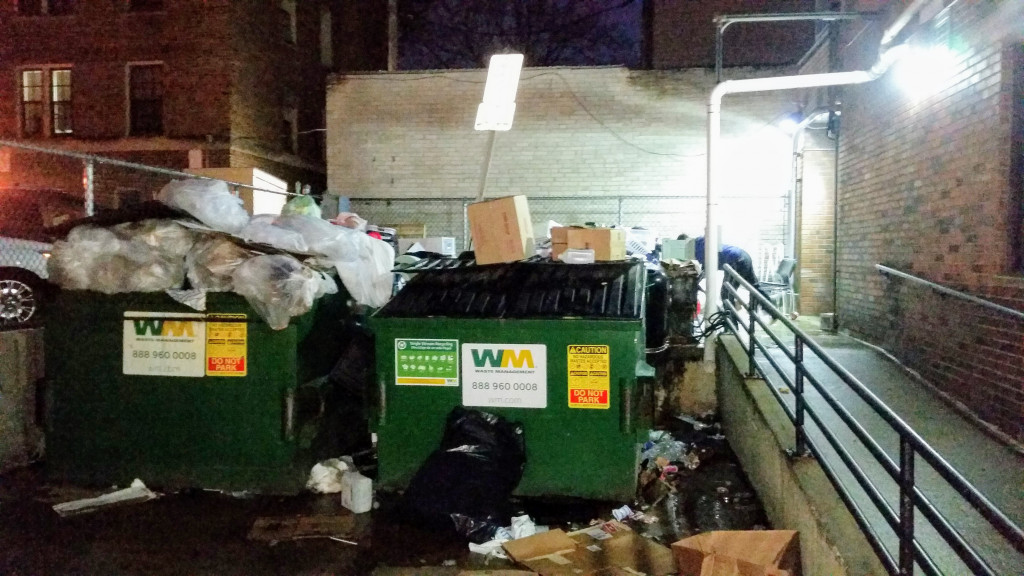Dumpster: (28, 198, 366, 502), (366, 242, 656, 511)
